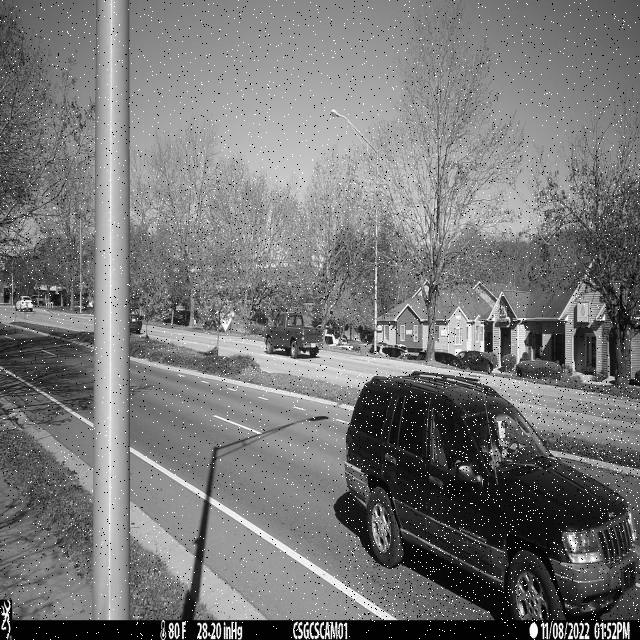SUV: (345, 371, 640, 623)
